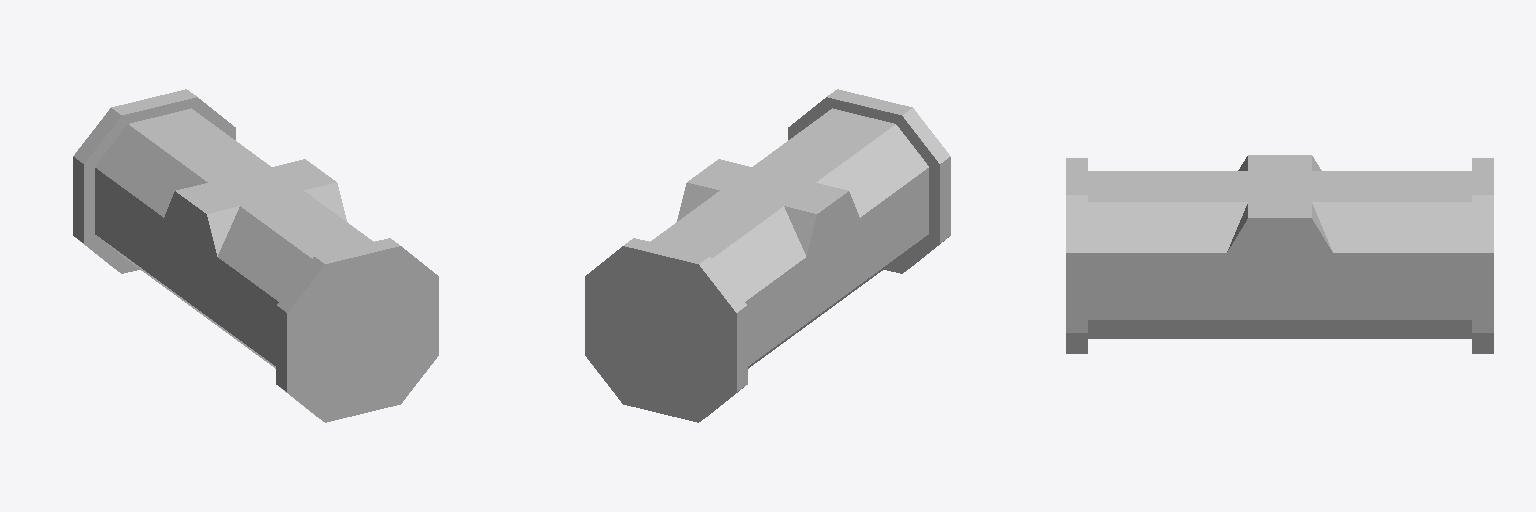
The model's file is crate_octagon.obj.
The picture shows the model from 3 angles: view 1: azimuth 30°, elevation 25°; view 2: azimuth 150°, elevation 25°; view 3: azimuth 270°, elevation 25°; orthographic projection.
Parts seen in each view (by area): view 1: crate_octagon; view 2: crate_octagon; view 3: crate_octagon.
Part boxes in pixels (x1,y1,x2,y2): crate_octagon: (73, 89, 438, 422); crate_octagon: (585, 89, 950, 422); crate_octagon: (1066, 155, 1493, 353).
Size of the model in its own units: 1 by 1 by 2.45.